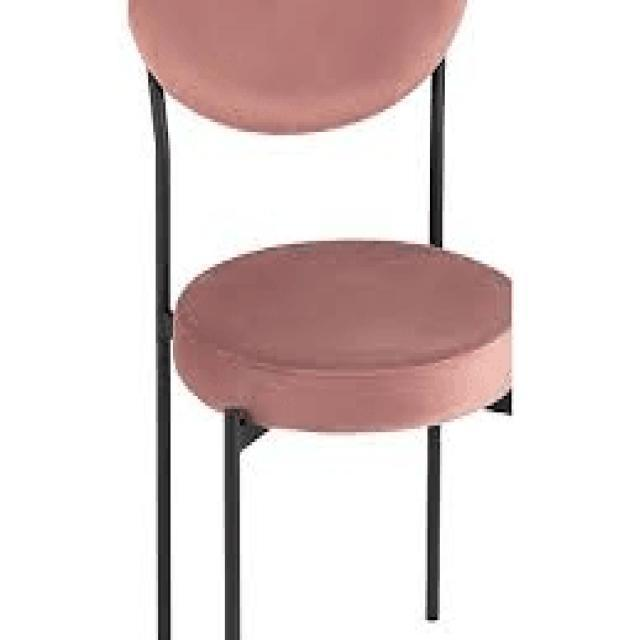chair: (116, 0, 514, 640), (128, 0, 510, 439)
